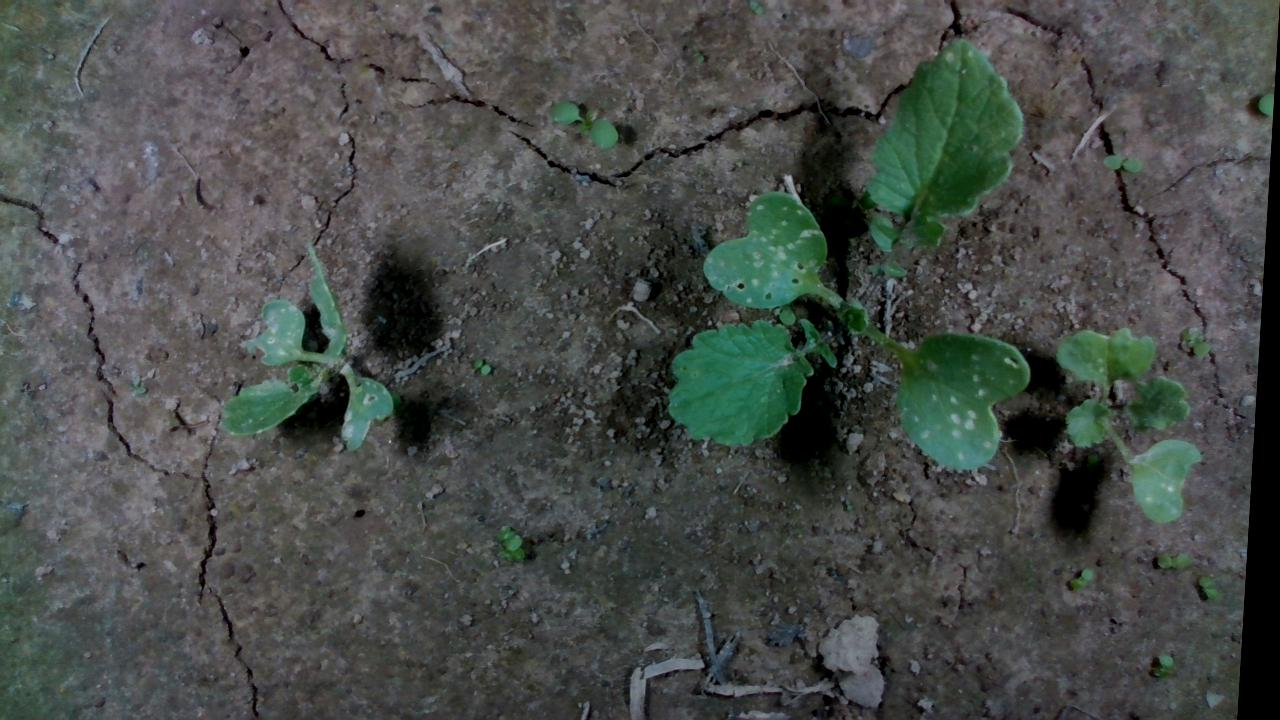weed: (542, 94, 625, 161), (1180, 320, 1221, 371), (1099, 147, 1147, 179), (1154, 647, 1194, 683), (503, 522, 533, 568), (1076, 559, 1107, 595), (468, 355, 501, 384), (1164, 546, 1197, 575), (1205, 565, 1226, 605)
